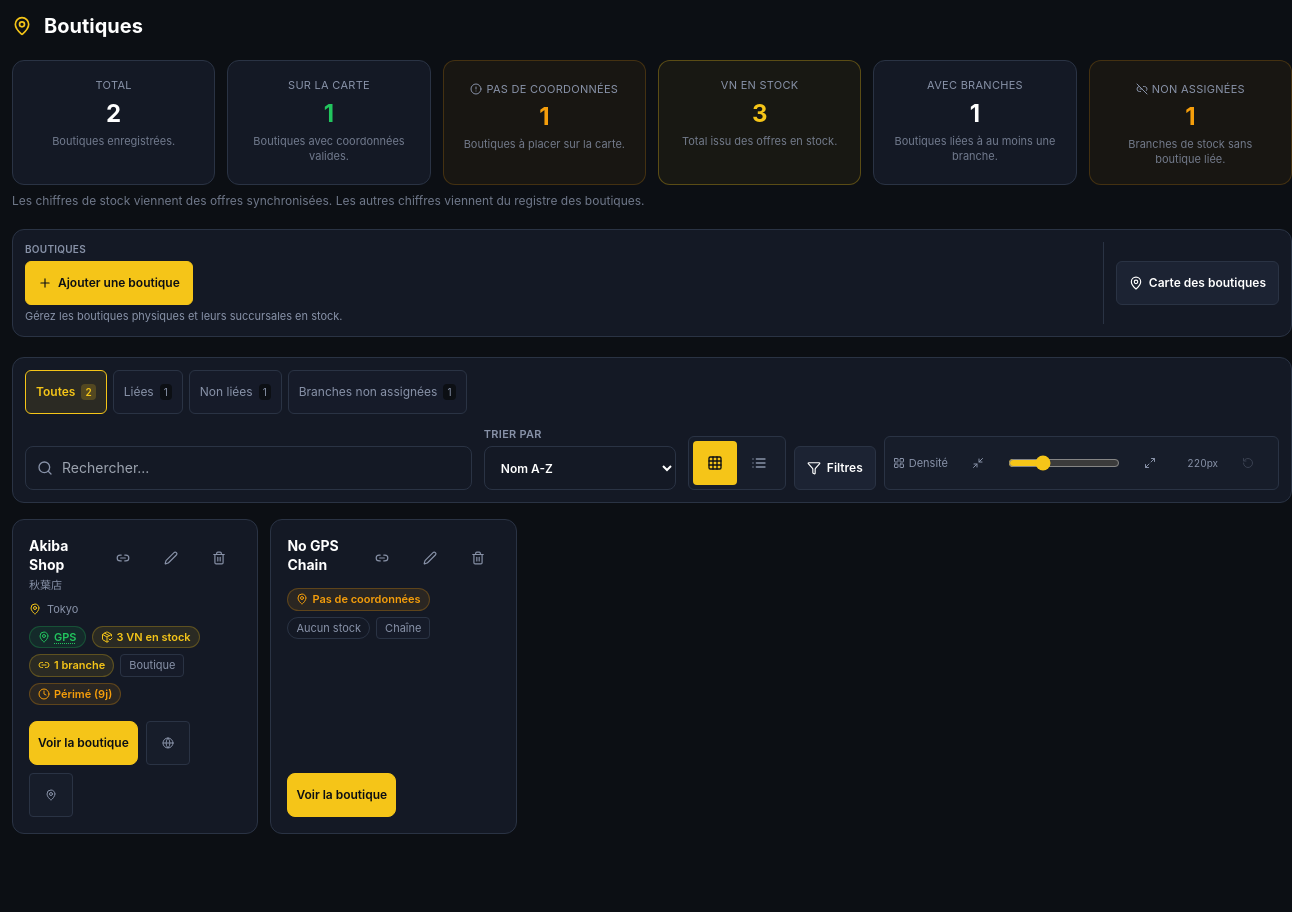
Test case: PlaceBrowser › loads places, switches views, filters, and resets filters
Expected: the heading "Akiba Shop" is shown, [29, 537, 68, 573]
Expected: the 1st text "2" is shown, [106, 98, 121, 128]
Step 1. Click the button named "Liste" → (759, 463), box [737, 441, 781, 485]
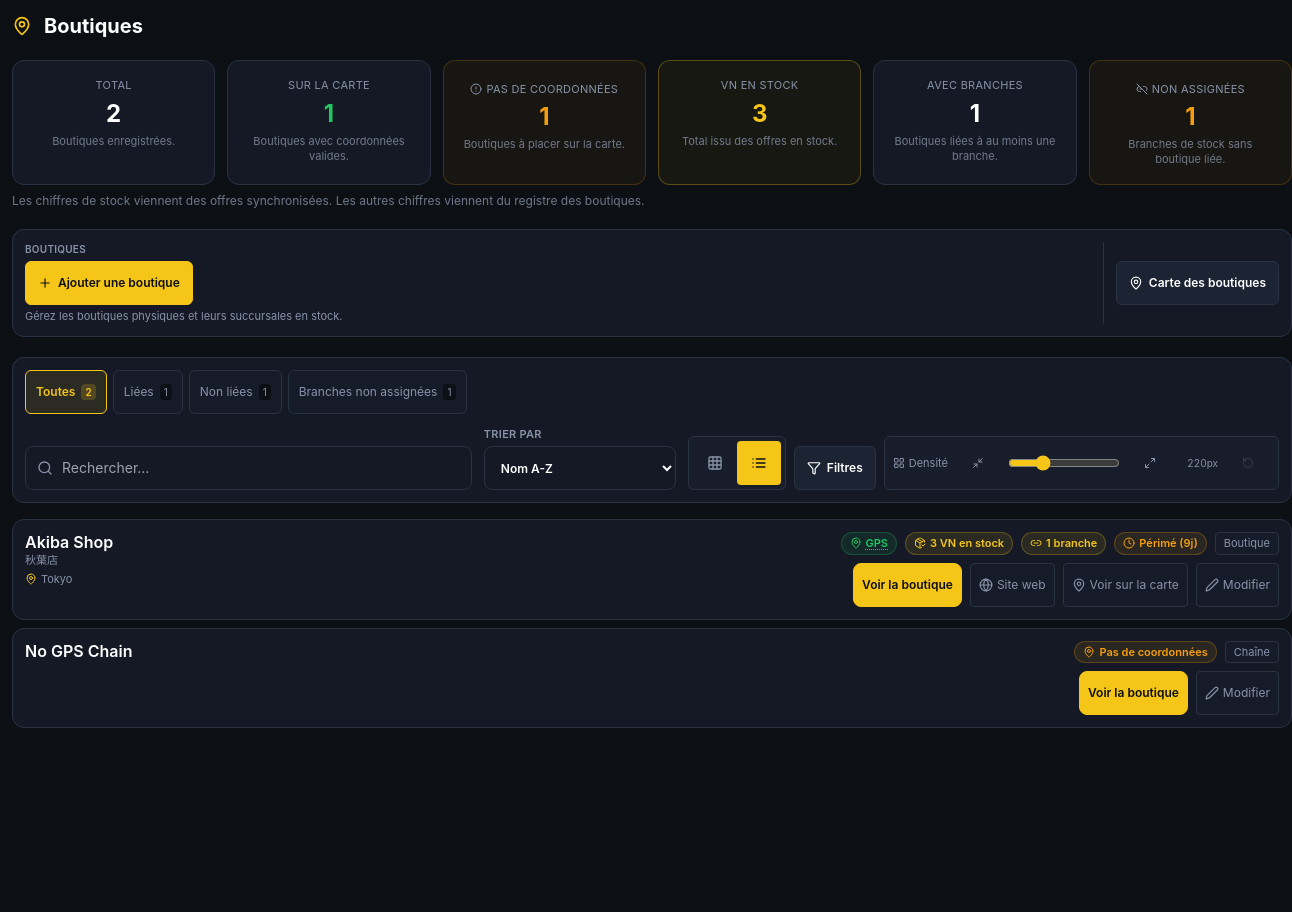
Expected: the text "Les chiffres de stock viennent des offres synchronisées. Les autres chiffres viennent du registre des boutiques." is shown, [12, 192, 645, 208]
Expected: the text "Total issu des offres en stock." is shown, [675, 134, 844, 149]
Step 2. Select "Stock" in the dropdown labelled "Trier par" → (580, 468), box [484, 446, 676, 490]
Step 3. Click the button "Filtres" → (835, 468), box [794, 446, 876, 490]
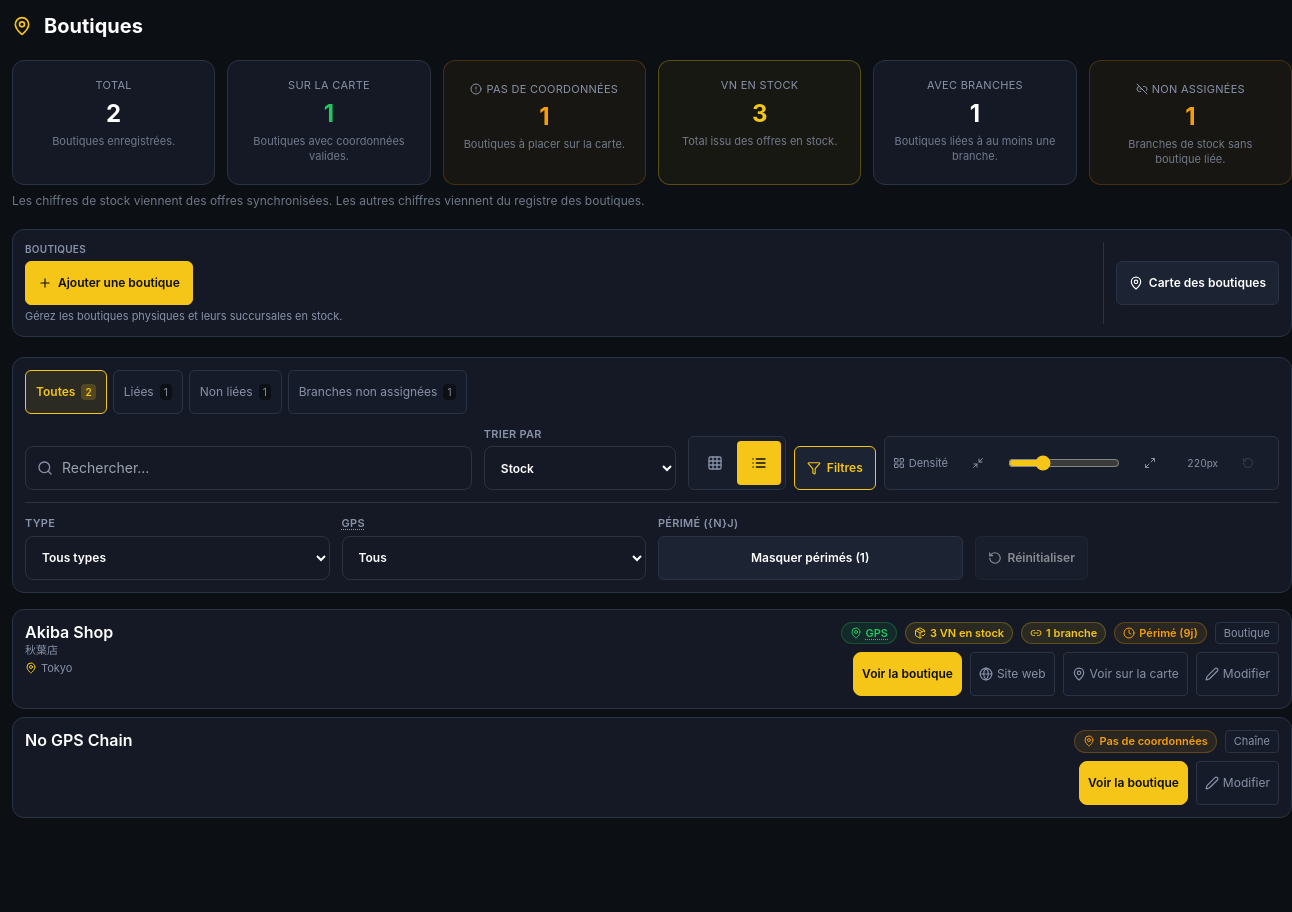
Step 4. Select "Chaîne" in the dropdown labelled "Type" → (177, 558), box [25, 536, 330, 580]
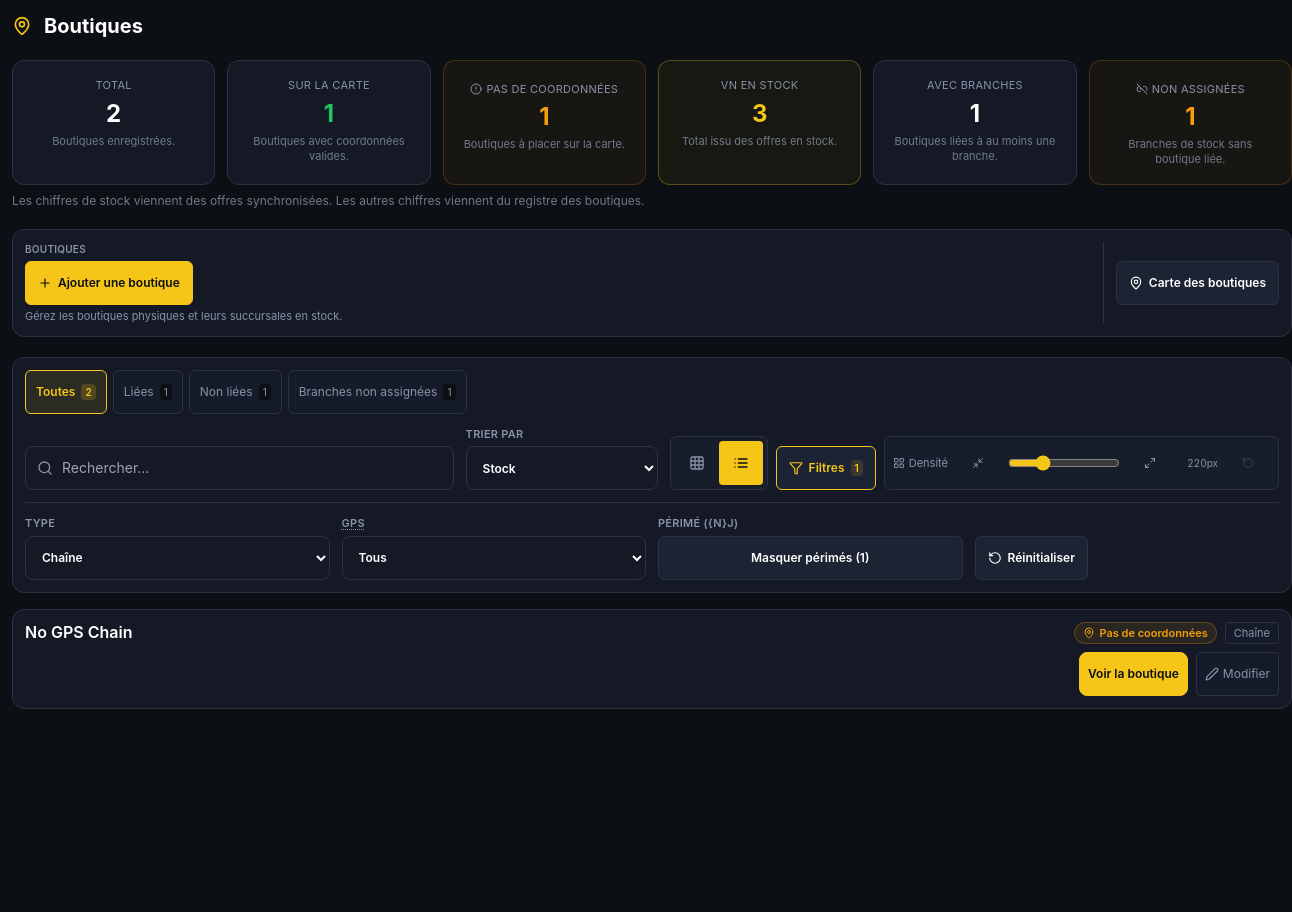
Expected: the text "No GPS Chain" is shown, [25, 622, 132, 642]
Result: the text "Akiba Shop" is gone
Step 5. Select "Sans GPS" in the dropdown labelled "GPS" → (494, 558), box [342, 536, 646, 580]
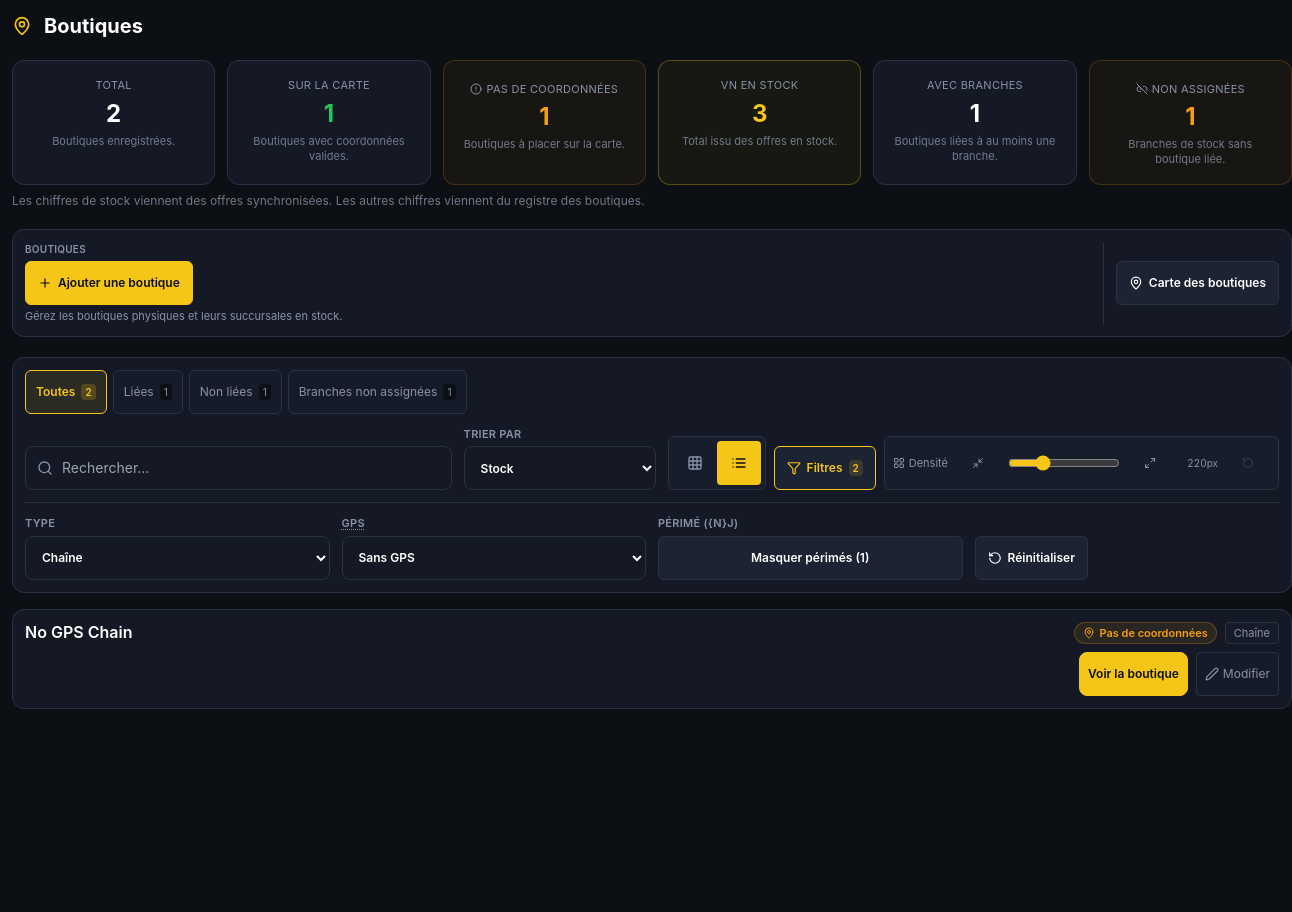
Step 6. Click the button "Masquer périmés (1)" → (810, 558), box [658, 536, 962, 580]
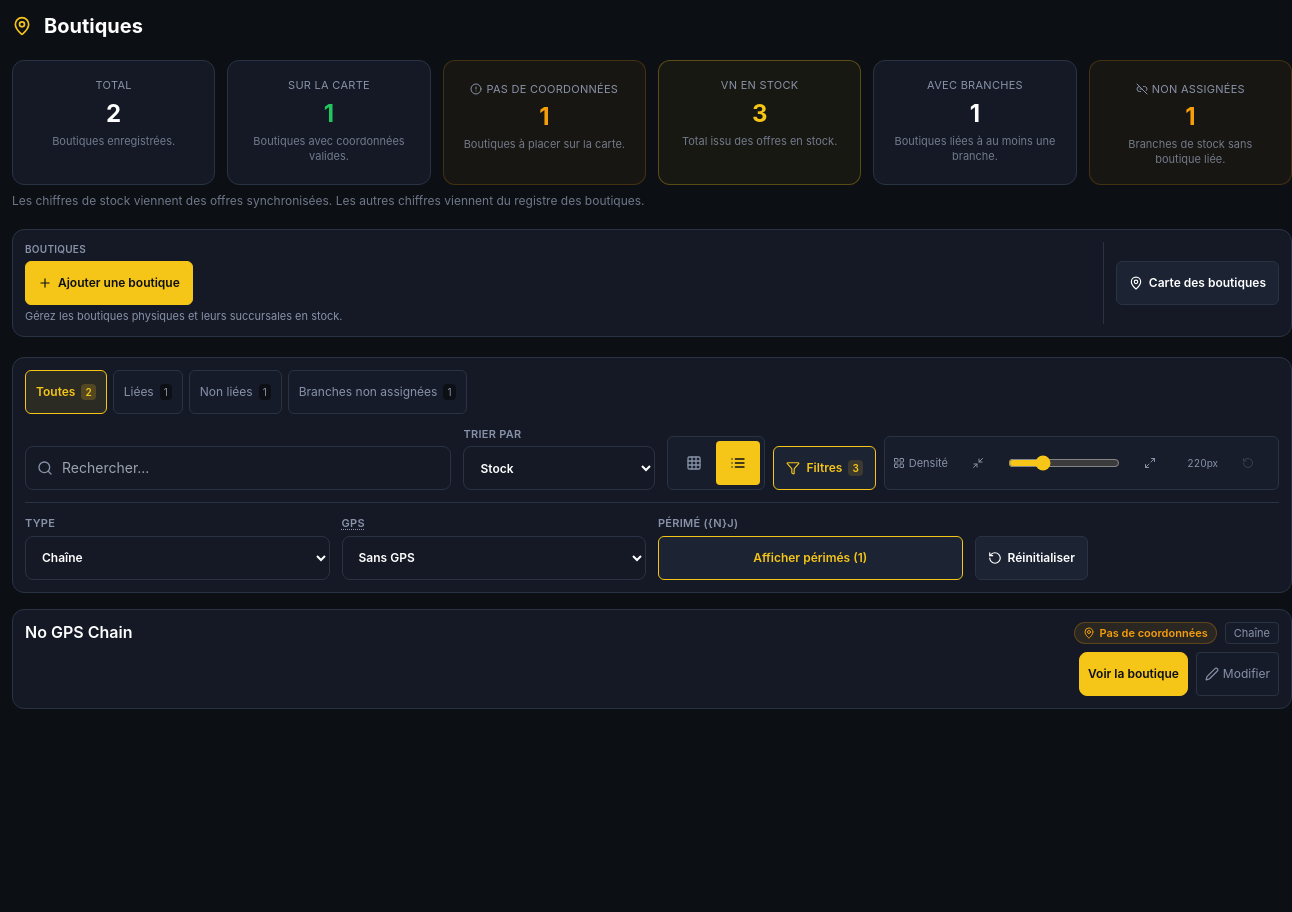
Step 7. Type "No GPS" into the search field labelled "Rechercher..." → (238, 468), box [25, 446, 452, 490]
Step 8. Click the button "Réinitialiser" → (1031, 558), box [974, 536, 1088, 580]
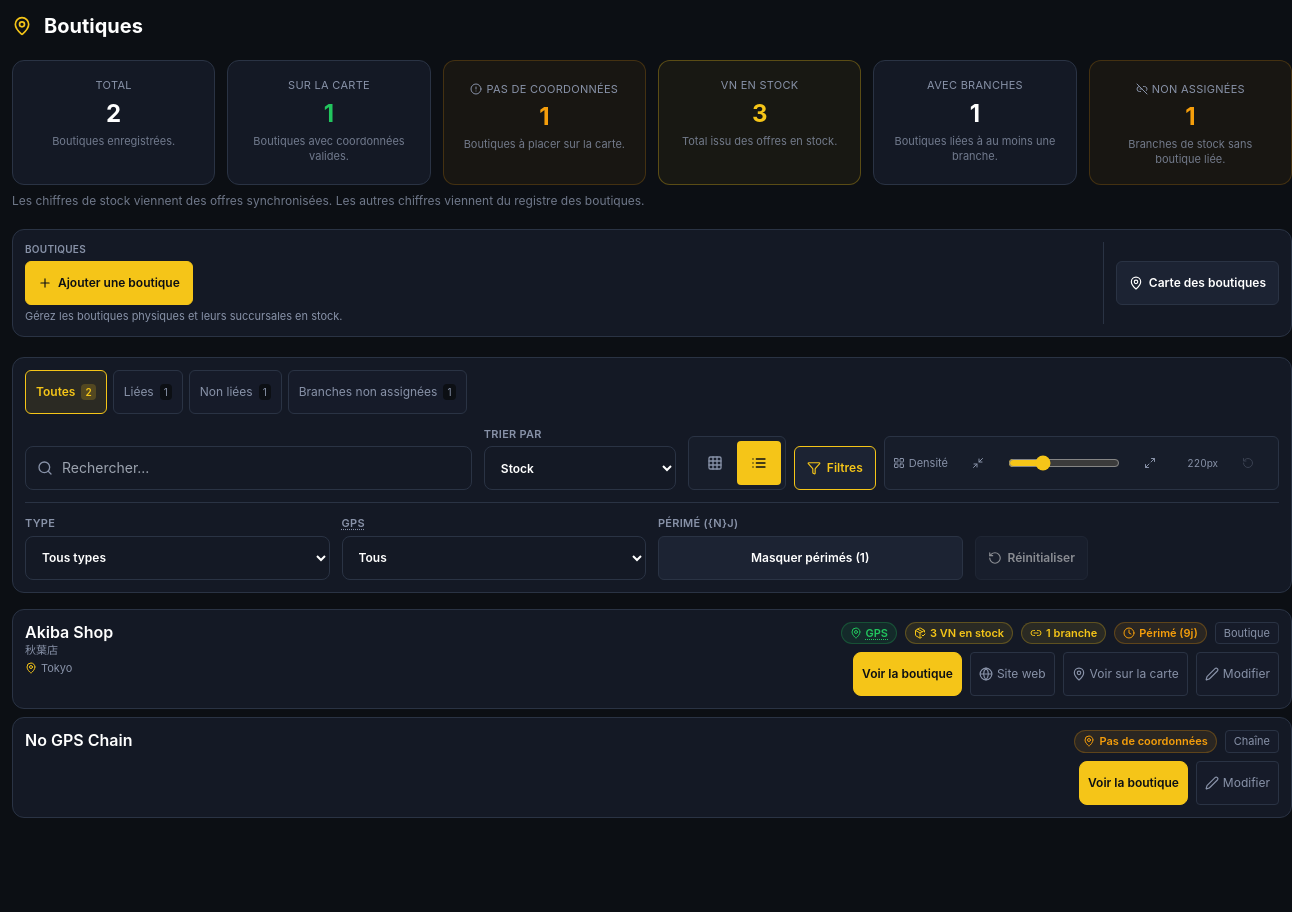
Result: the text "Akiba Shop" is shown at [25, 622, 113, 642]
